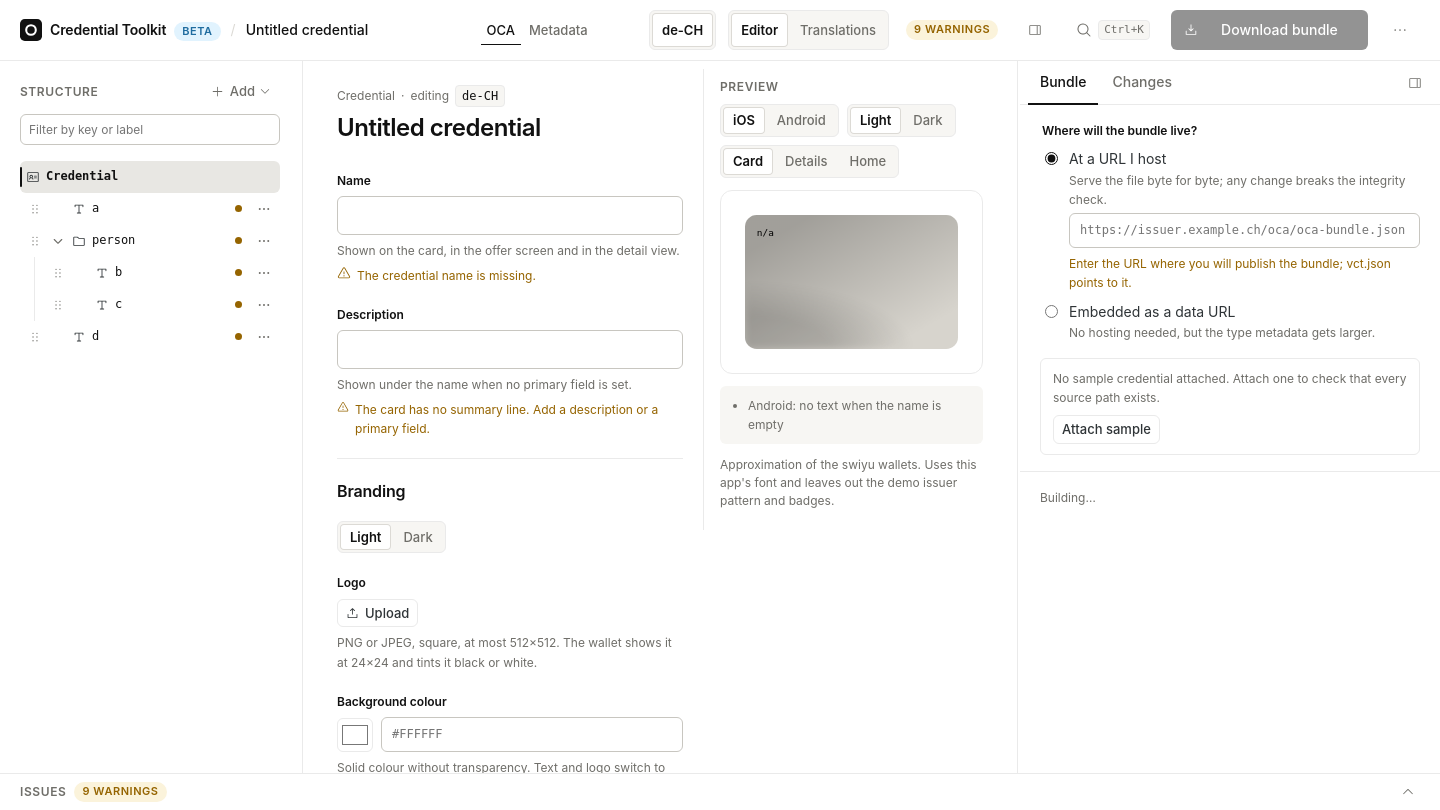
Test case: Structure tree › drag and drop › drags an unselected row on its own, previewing the row
Click the list item "a" at (79, 209), box [20,193,280,225]
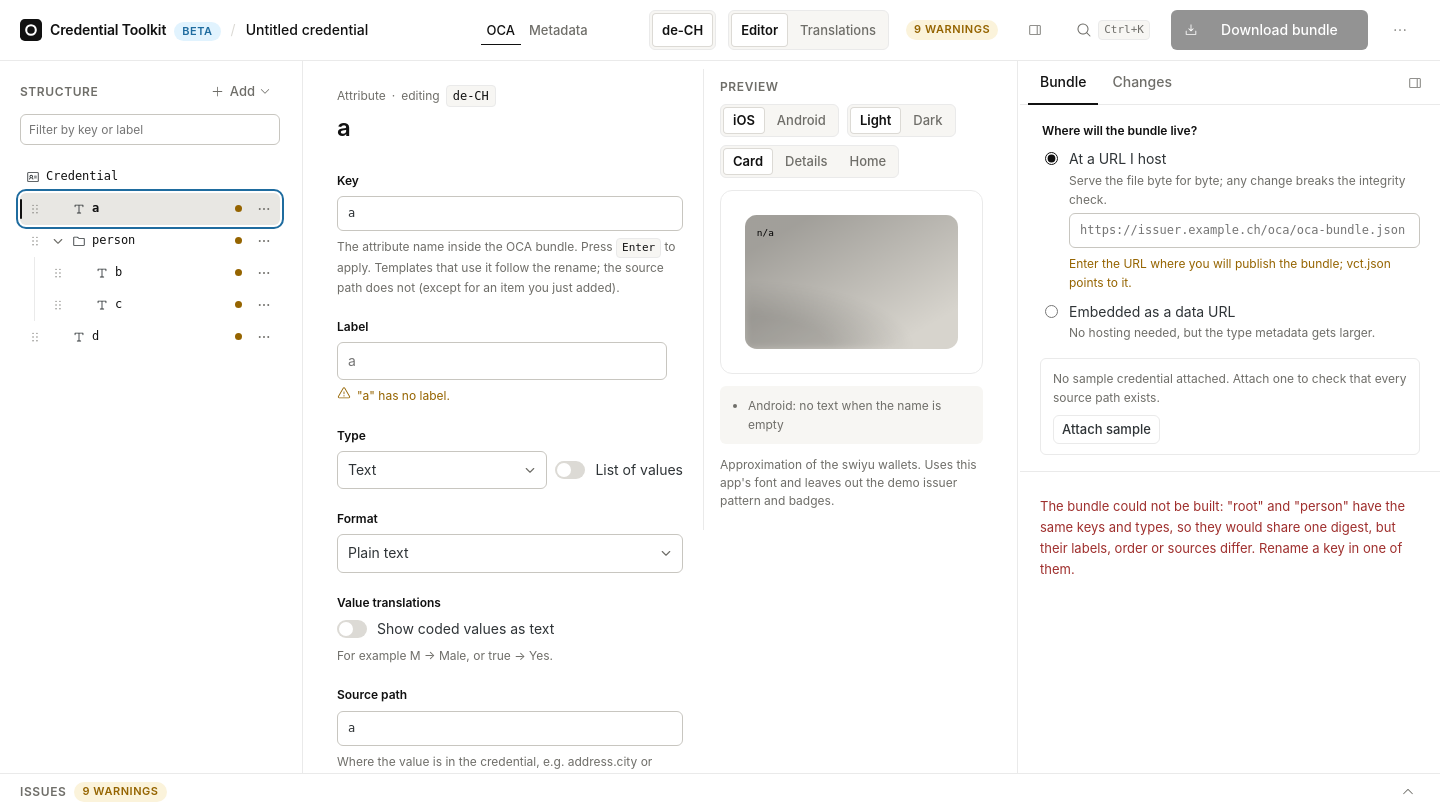
Type keys "{Meta>}"
Click the list item "b" at (102, 273), box [43,257,280,289]
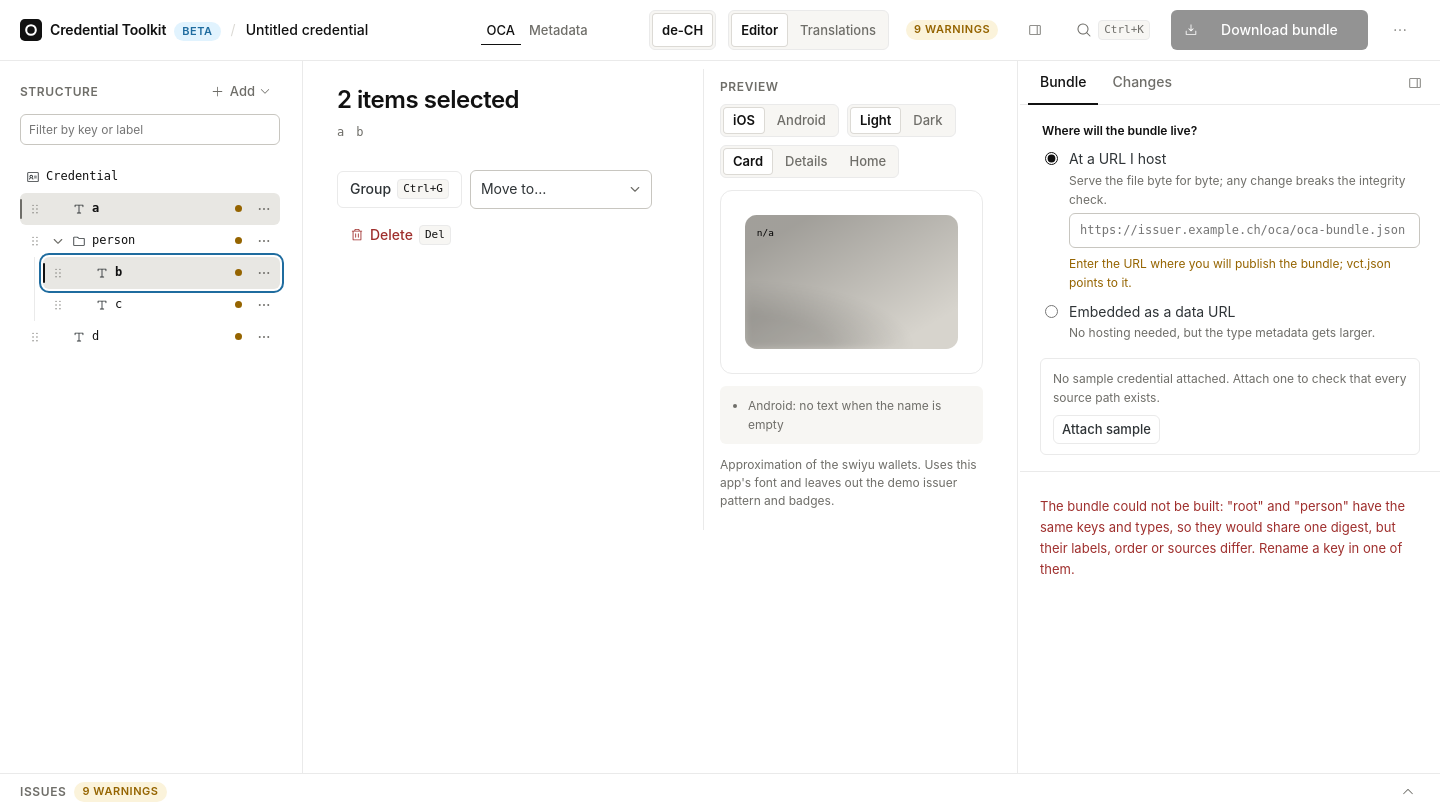
Type keys "{/Meta}"
Press the mouse on the button named "Move d" at (35, 337), box [26,328,44,346]
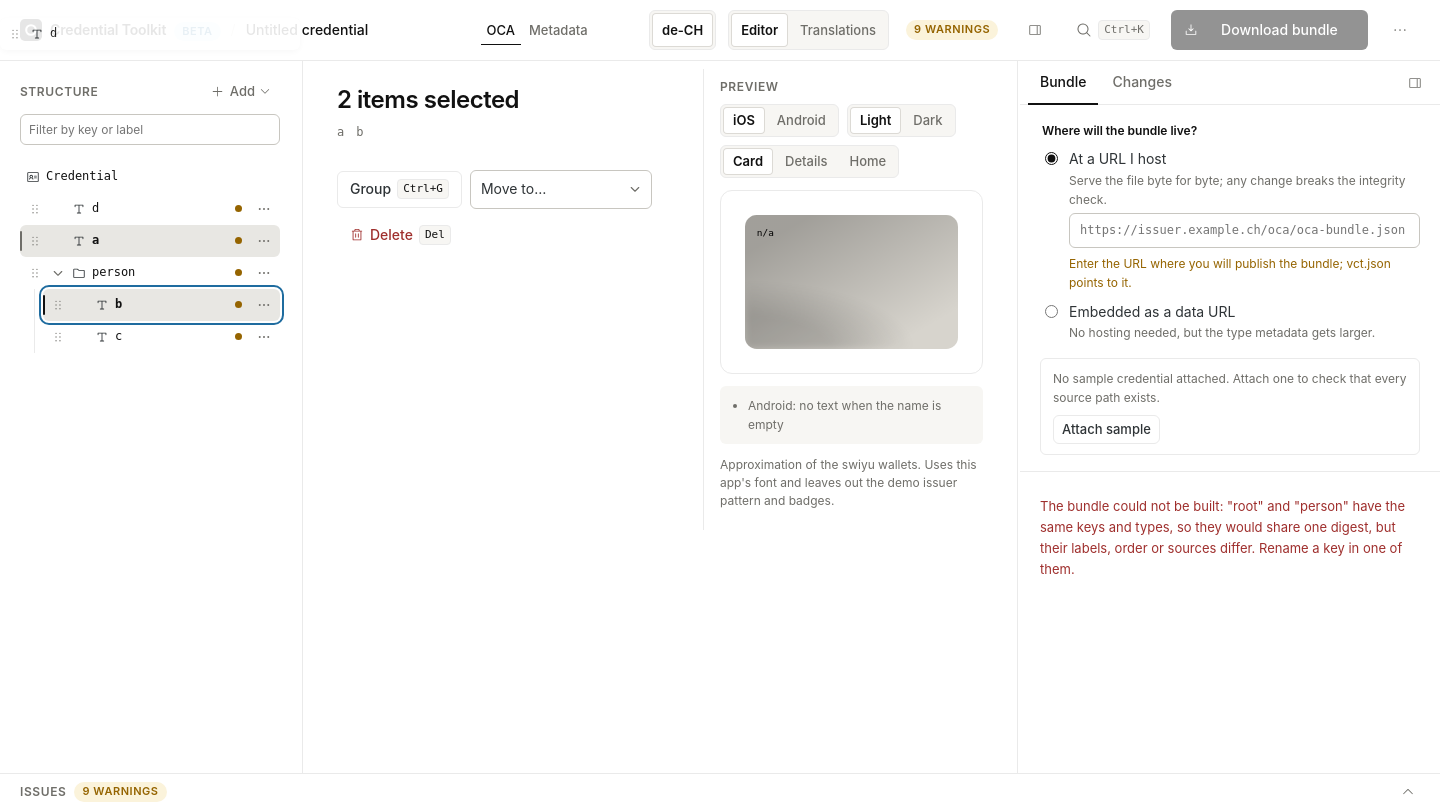
Check: the 1st text with class "tree__key" reads "d", box [50,26,57,40]
